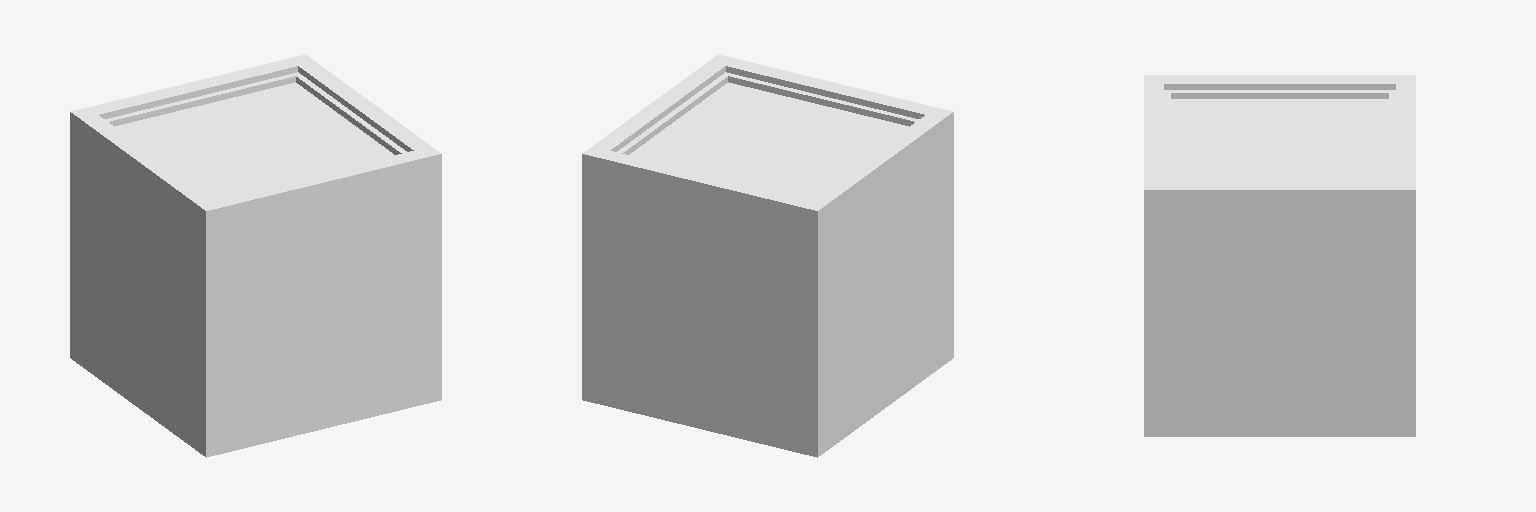
Rendered from StageBlock1.obj.
3 views of the same model, side by side, from view 1: azimuth 30°, elevation 25°; view 2: azimuth 150°, elevation 25°; view 3: azimuth 270°, elevation 25° (orthographic).
Visible parts, largest first — view 1: object 1; view 2: object 1; view 3: object 1.
Part boxes in pixels (bbox=[...]): object 1: bbox=[70, 54, 441, 457]; object 1: bbox=[582, 54, 953, 457]; object 1: bbox=[1144, 75, 1415, 436].
Size of the model in its own units: 4 by 4 by 4.